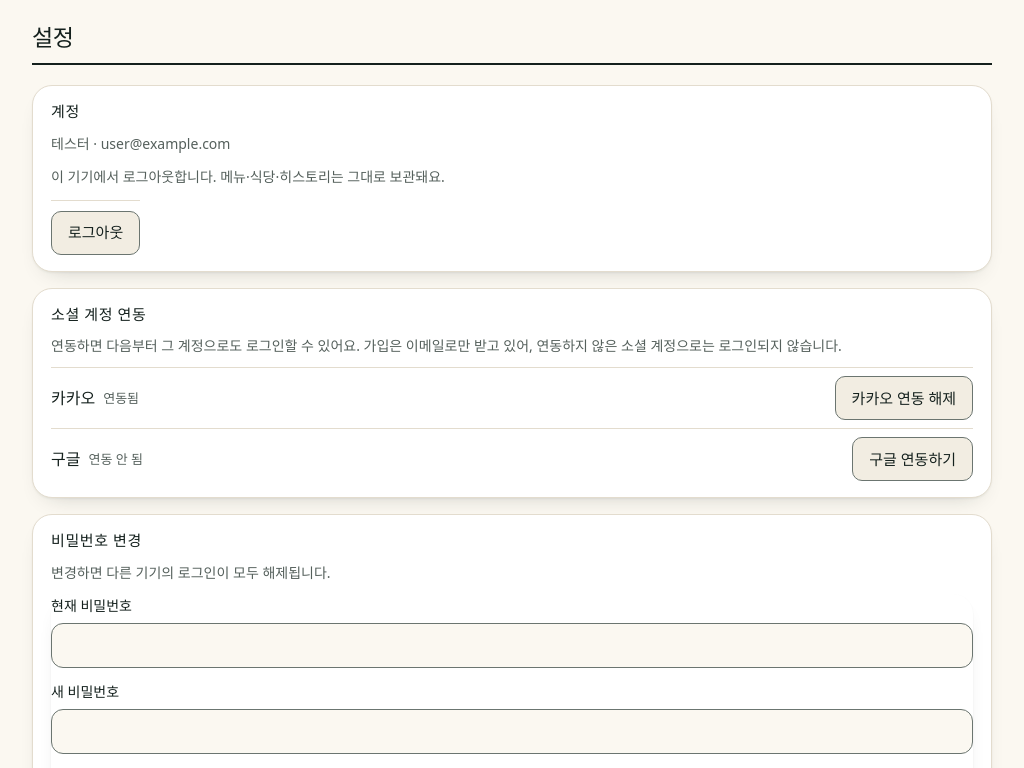
Test case: SettingsPage 소셜 계정 연동 › 해제에 성공하면 다시 조회하지 않고 목록을 갱신한다
Step 1. Click the button "카카오 연동 해제" → (904, 398), box [835,376,973,420]
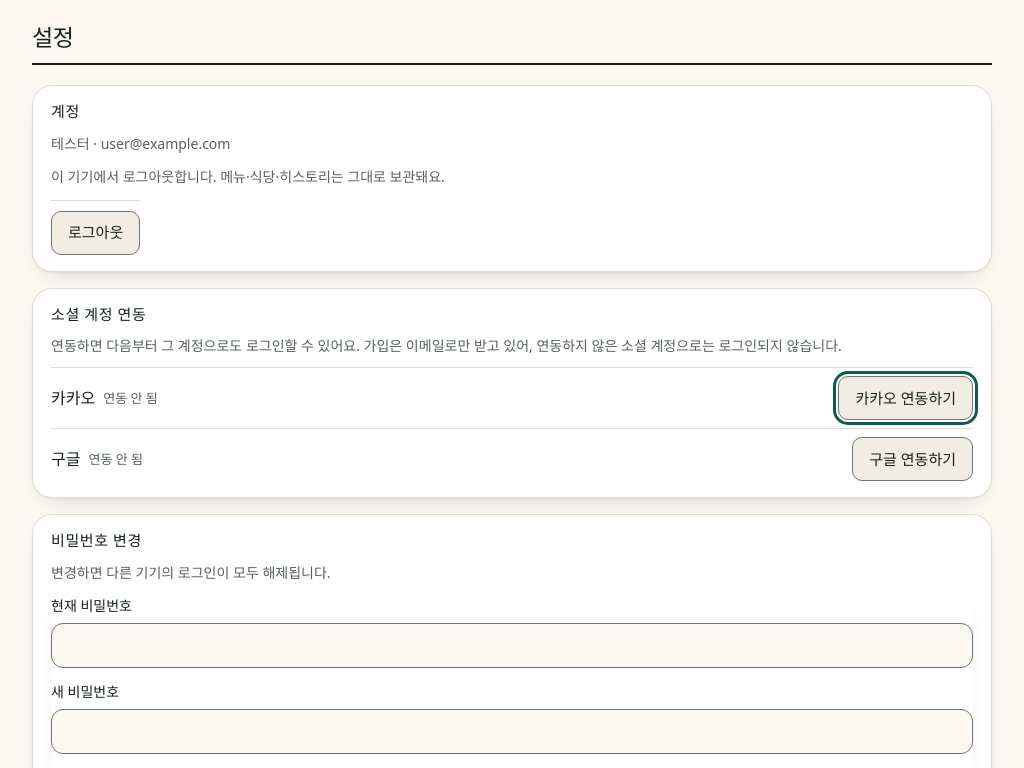
Now the button "카카오 연동하기" is shown, box [838,376,973,420]
